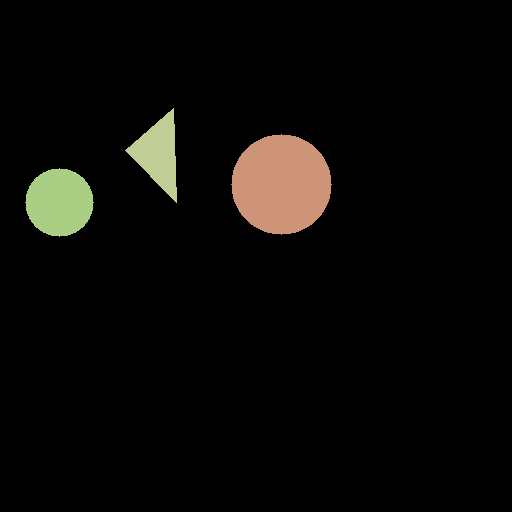circle: (231, 134, 331, 234), (25, 168, 93, 236)
triangle: (125, 108, 176, 202)
